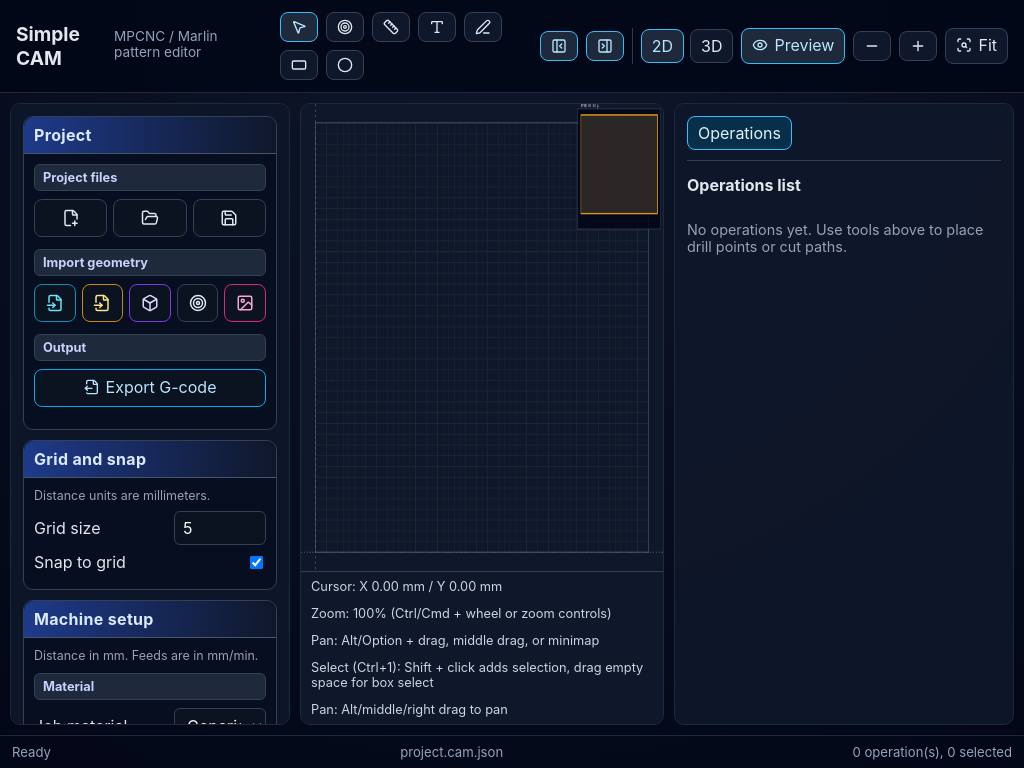
App › cancels an empty sketch from the toolbar action
Click the button named "New Sketch": (483, 27) 464,12 -> 502,42
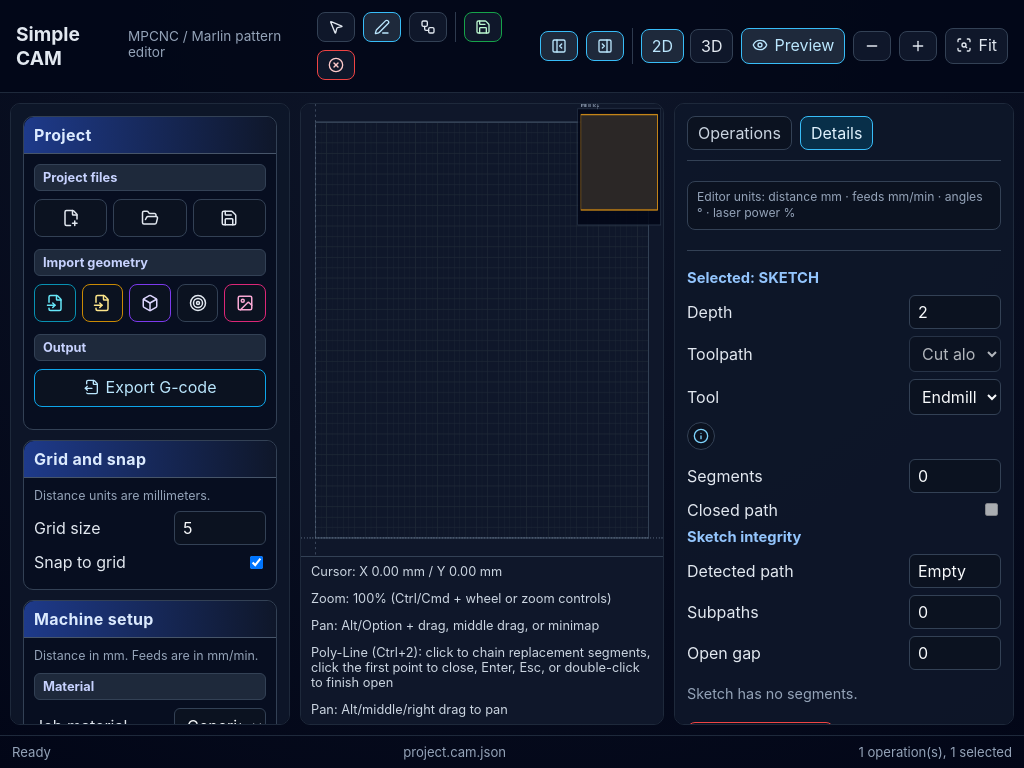
Click the button named "Cancel Sketch": (336, 65) 317,50 -> 355,80
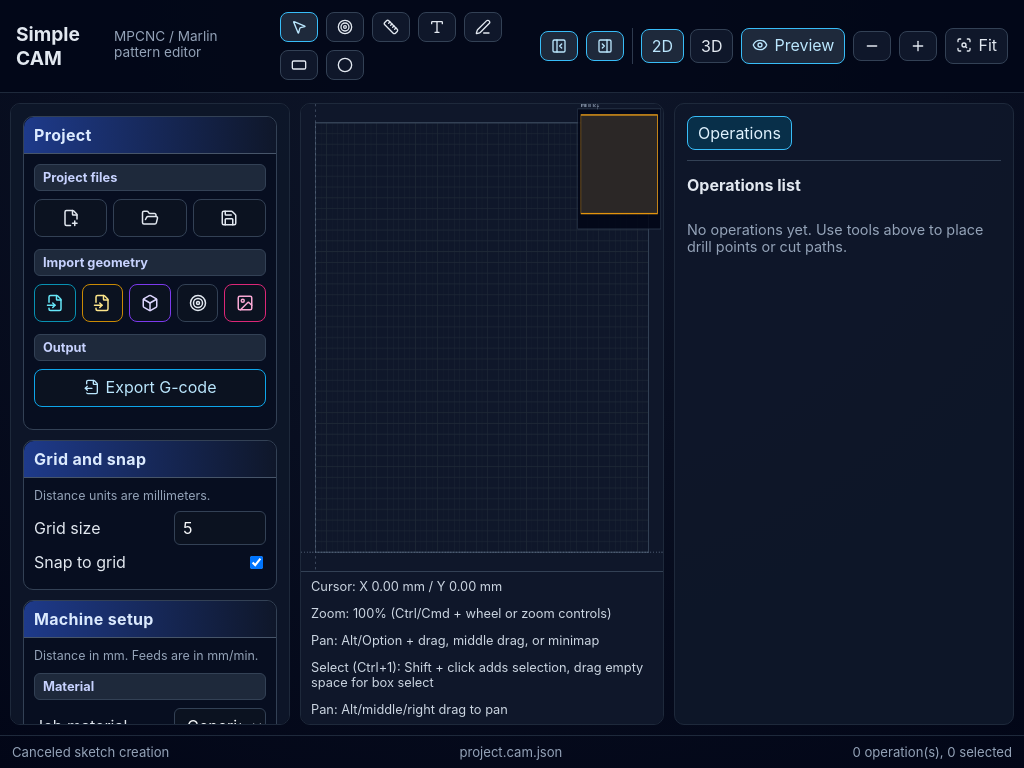
expect the button named "New Sketch" is shown: met, box 464,12 -> 502,42
